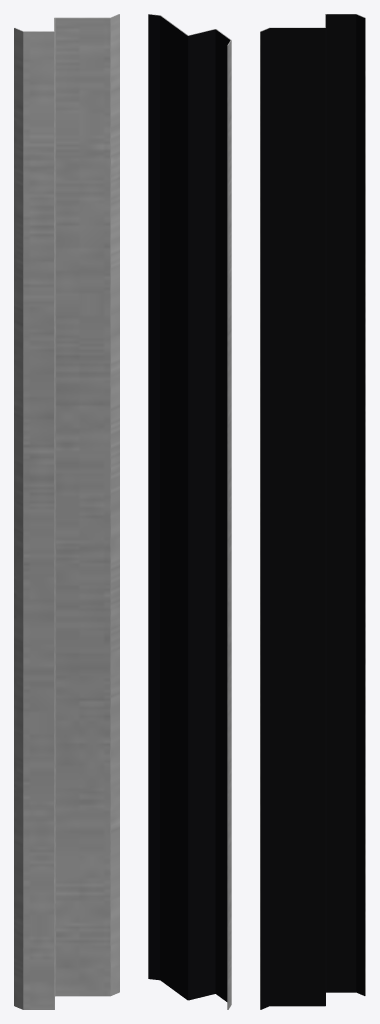
The model's file is bande solin pour bac.gltf.
3 views of the same model, side by side, from view 1: azimuth 90°, elevation 25°; view 2: azimuth 210°, elevation 25°; view 3: azimuth 270°, elevation 25° (orthographic).
Parts seen in each view (by area): view 1: bande solin pour bac; view 2: bande solin pour bac; view 3: bande solin pour bac.
Part boxes in pixels (box(x1,y1,x2,y2)): bande solin pour bac: box(14, 14, 119, 1009); bande solin pour bac: box(148, 14, 231, 1009); bande solin pour bac: box(260, 14, 365, 1009).
Size of the model in its own units: 0.0392 by 1 by 0.098.
Materials: 2 (1 with a texture image).
